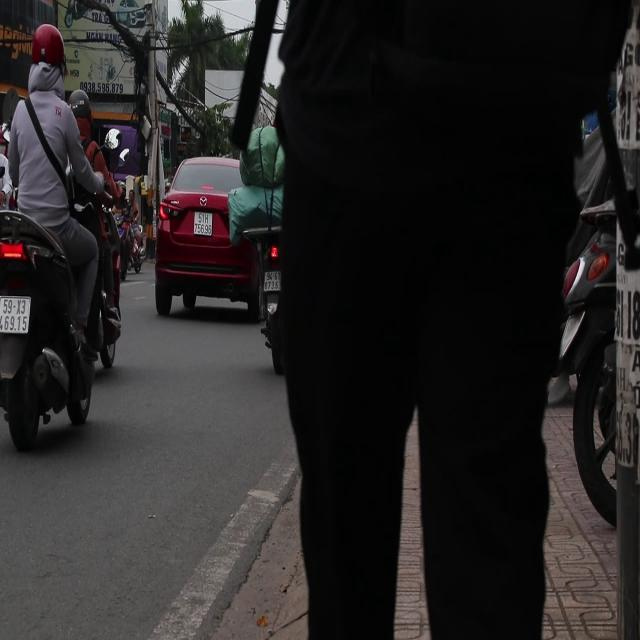car: (154, 156, 270, 322)
motorbike: (1, 201, 99, 447), (125, 220, 145, 274)
